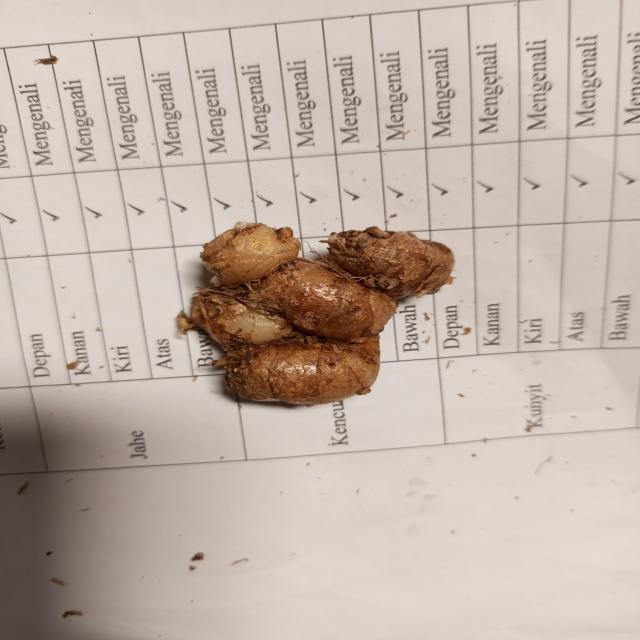ginger: (204, 228, 433, 394)
